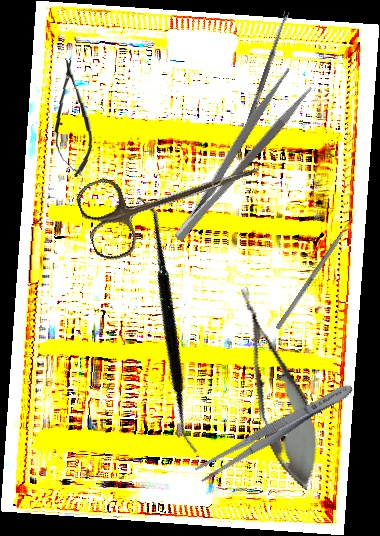Dressing Forceps: (156, 66, 316, 246), (192, 377, 358, 486)
Iris Scissors: (72, 127, 272, 266)
Micro Scissor: (218, 280, 334, 497), (49, 56, 95, 179)
Pusher: (275, 208, 360, 331)
Spatula Surgical: (41, 194, 293, 456)
Surgical Spoon: (239, 10, 291, 144)
